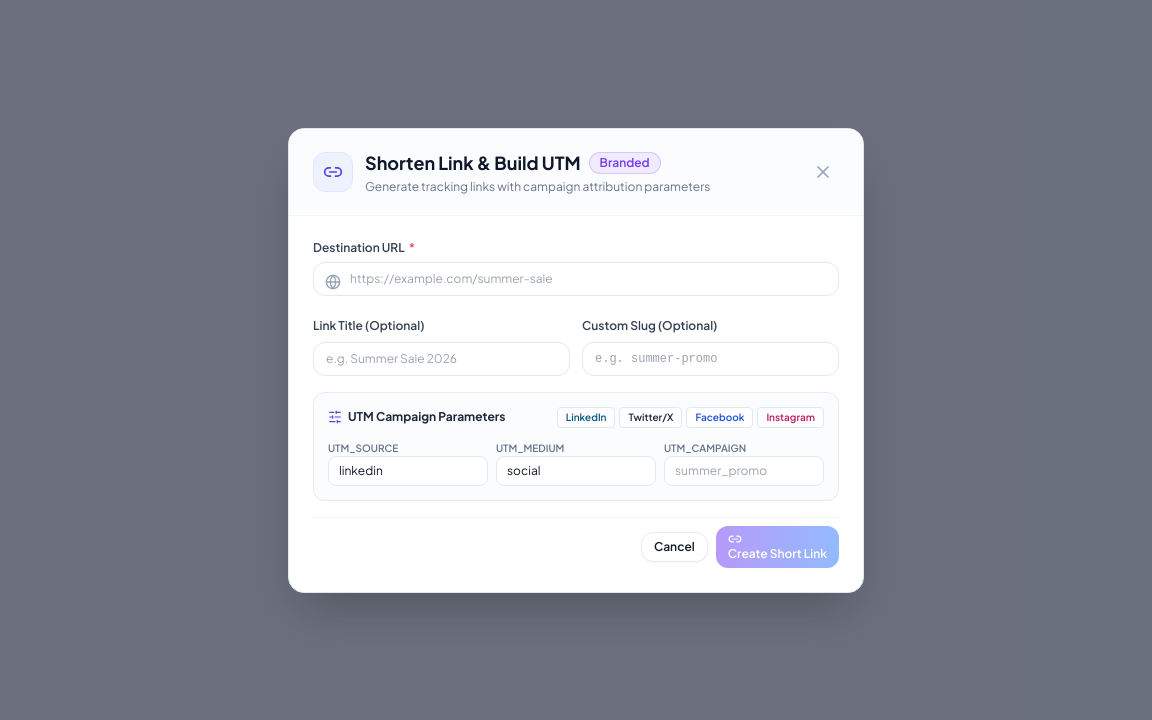
it: Phase 16 Links Components › CreateLinkModal › should update live UTM preview when destination URL and inputs change
This screenshot has width=1152, height=720.
Type "https://acmebrand.com/deals" into the field labelled "Destination URL *".
click(576, 278); type("https://acmebrand.com/deals")  # box [313,262,839,296]
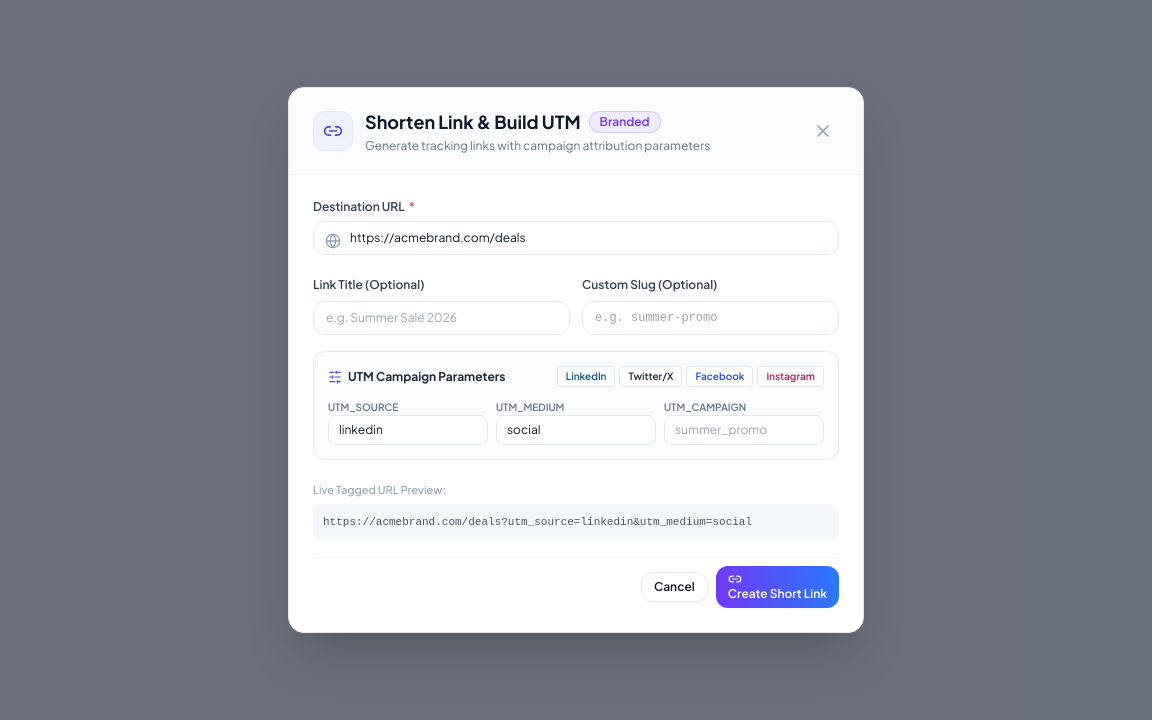
expect the text "Live Tagged URL Preview:" is shown: met, box [313,483,446,496]
expect the text "https://acmebrand.com/deals?utm_source=linkedin&utm_medium=social" is shown: met, box [313,504,839,541]
